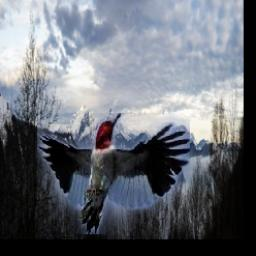Woodpecker: (37, 114, 190, 235)
